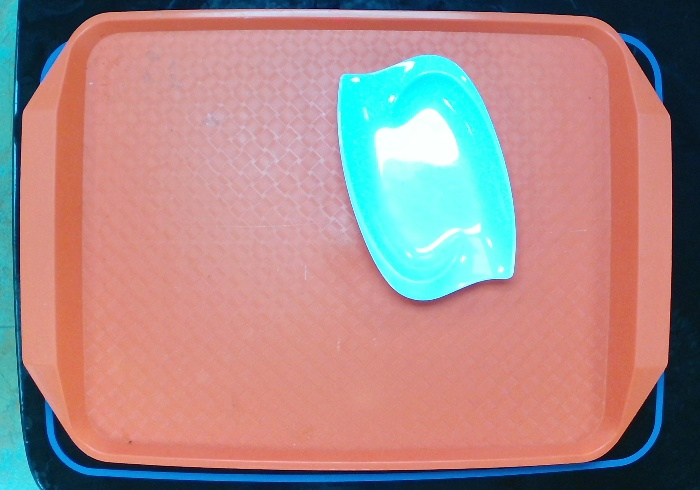RJxy-Jian_Jiao_Fang_Die: (332, 52, 518, 304)
